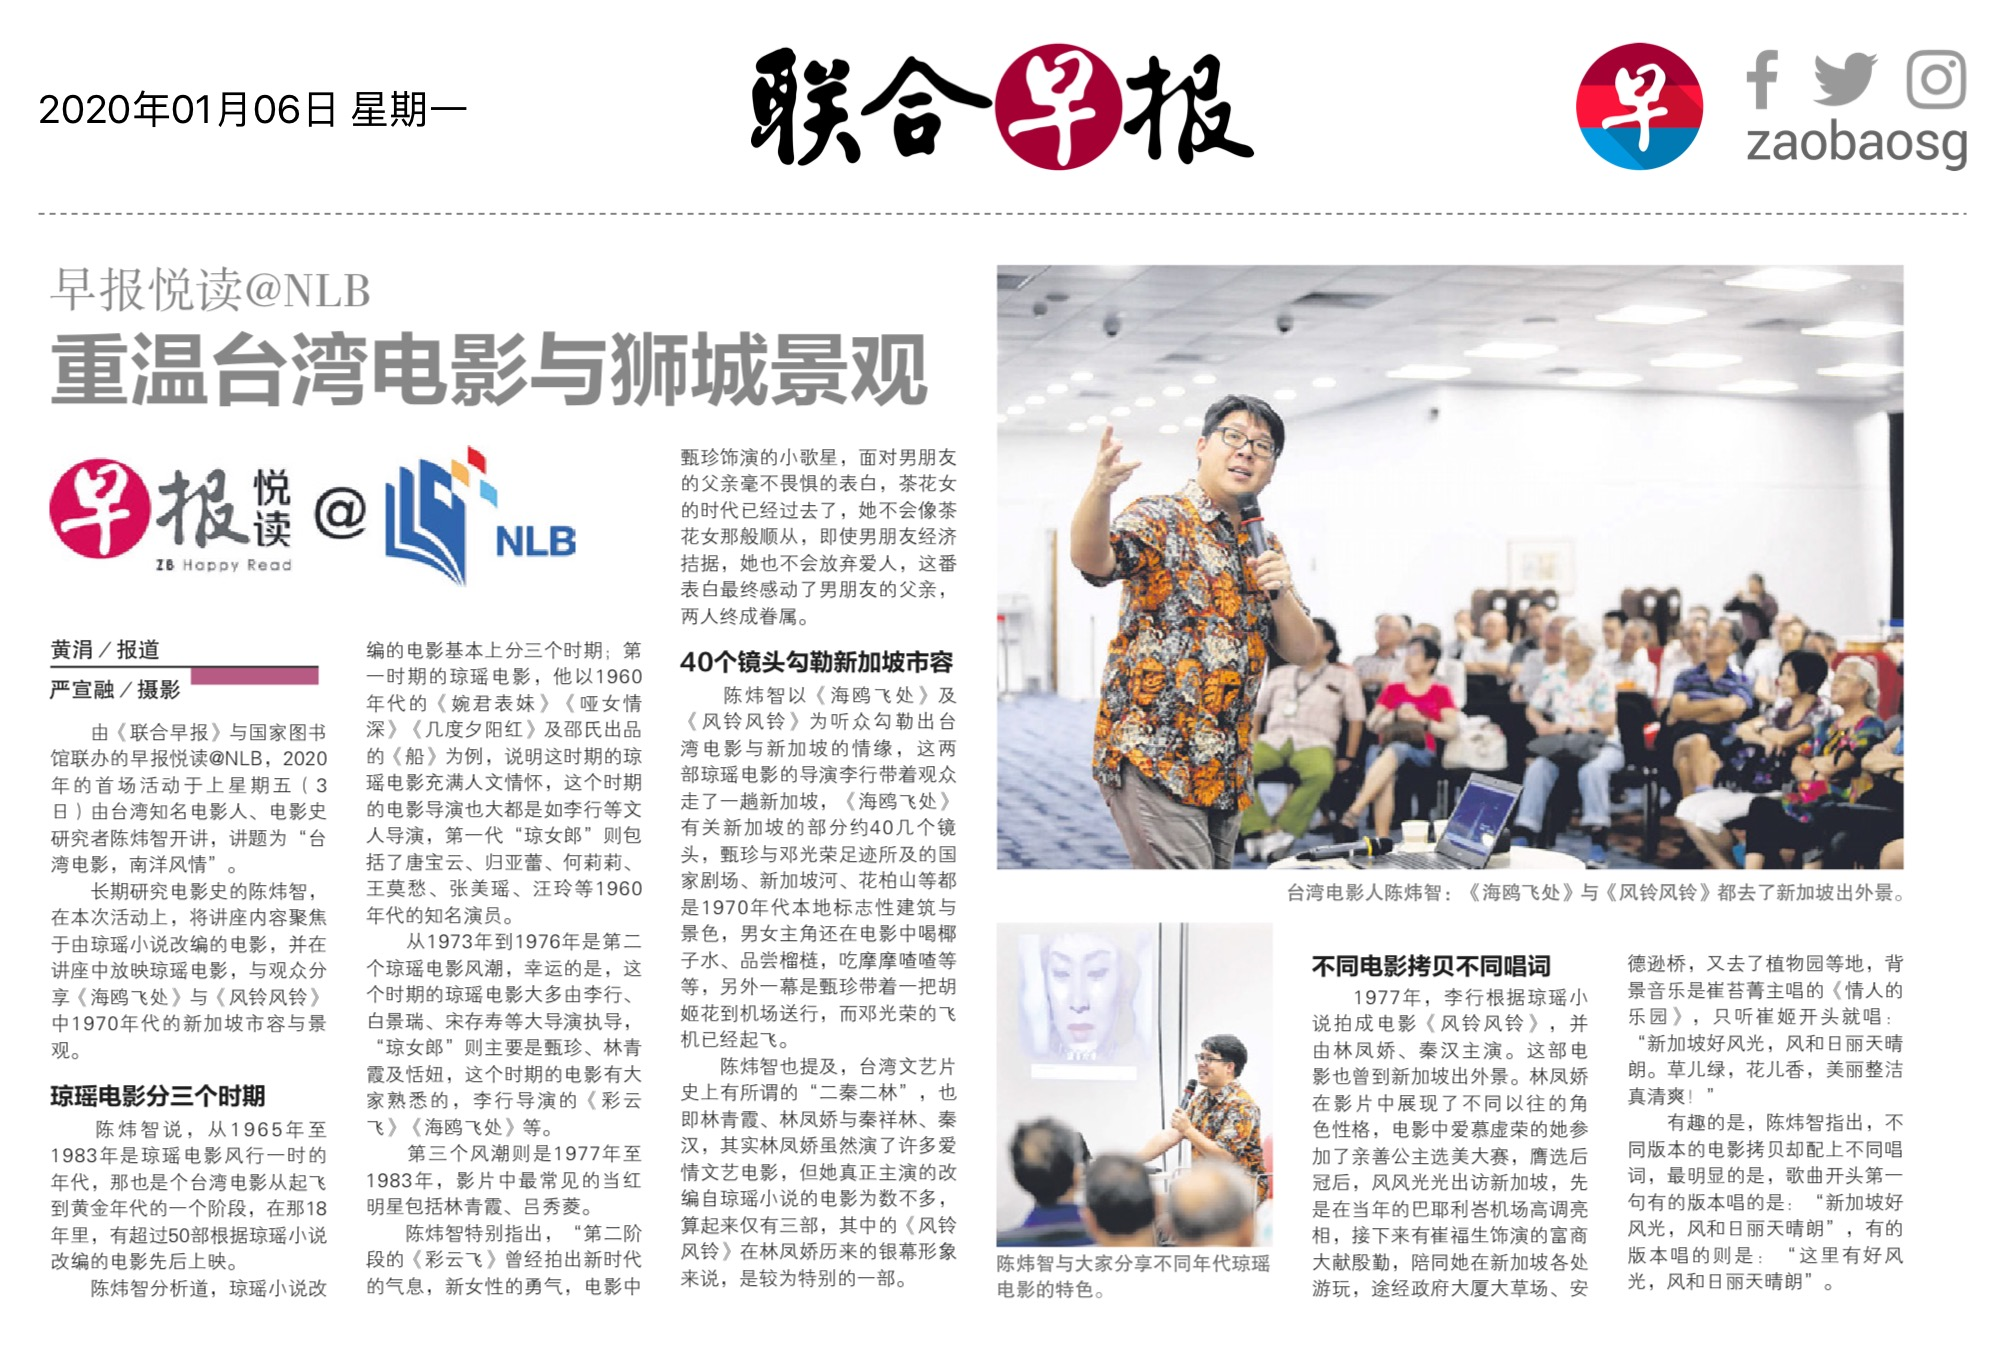heading: (46, 314, 938, 414)
